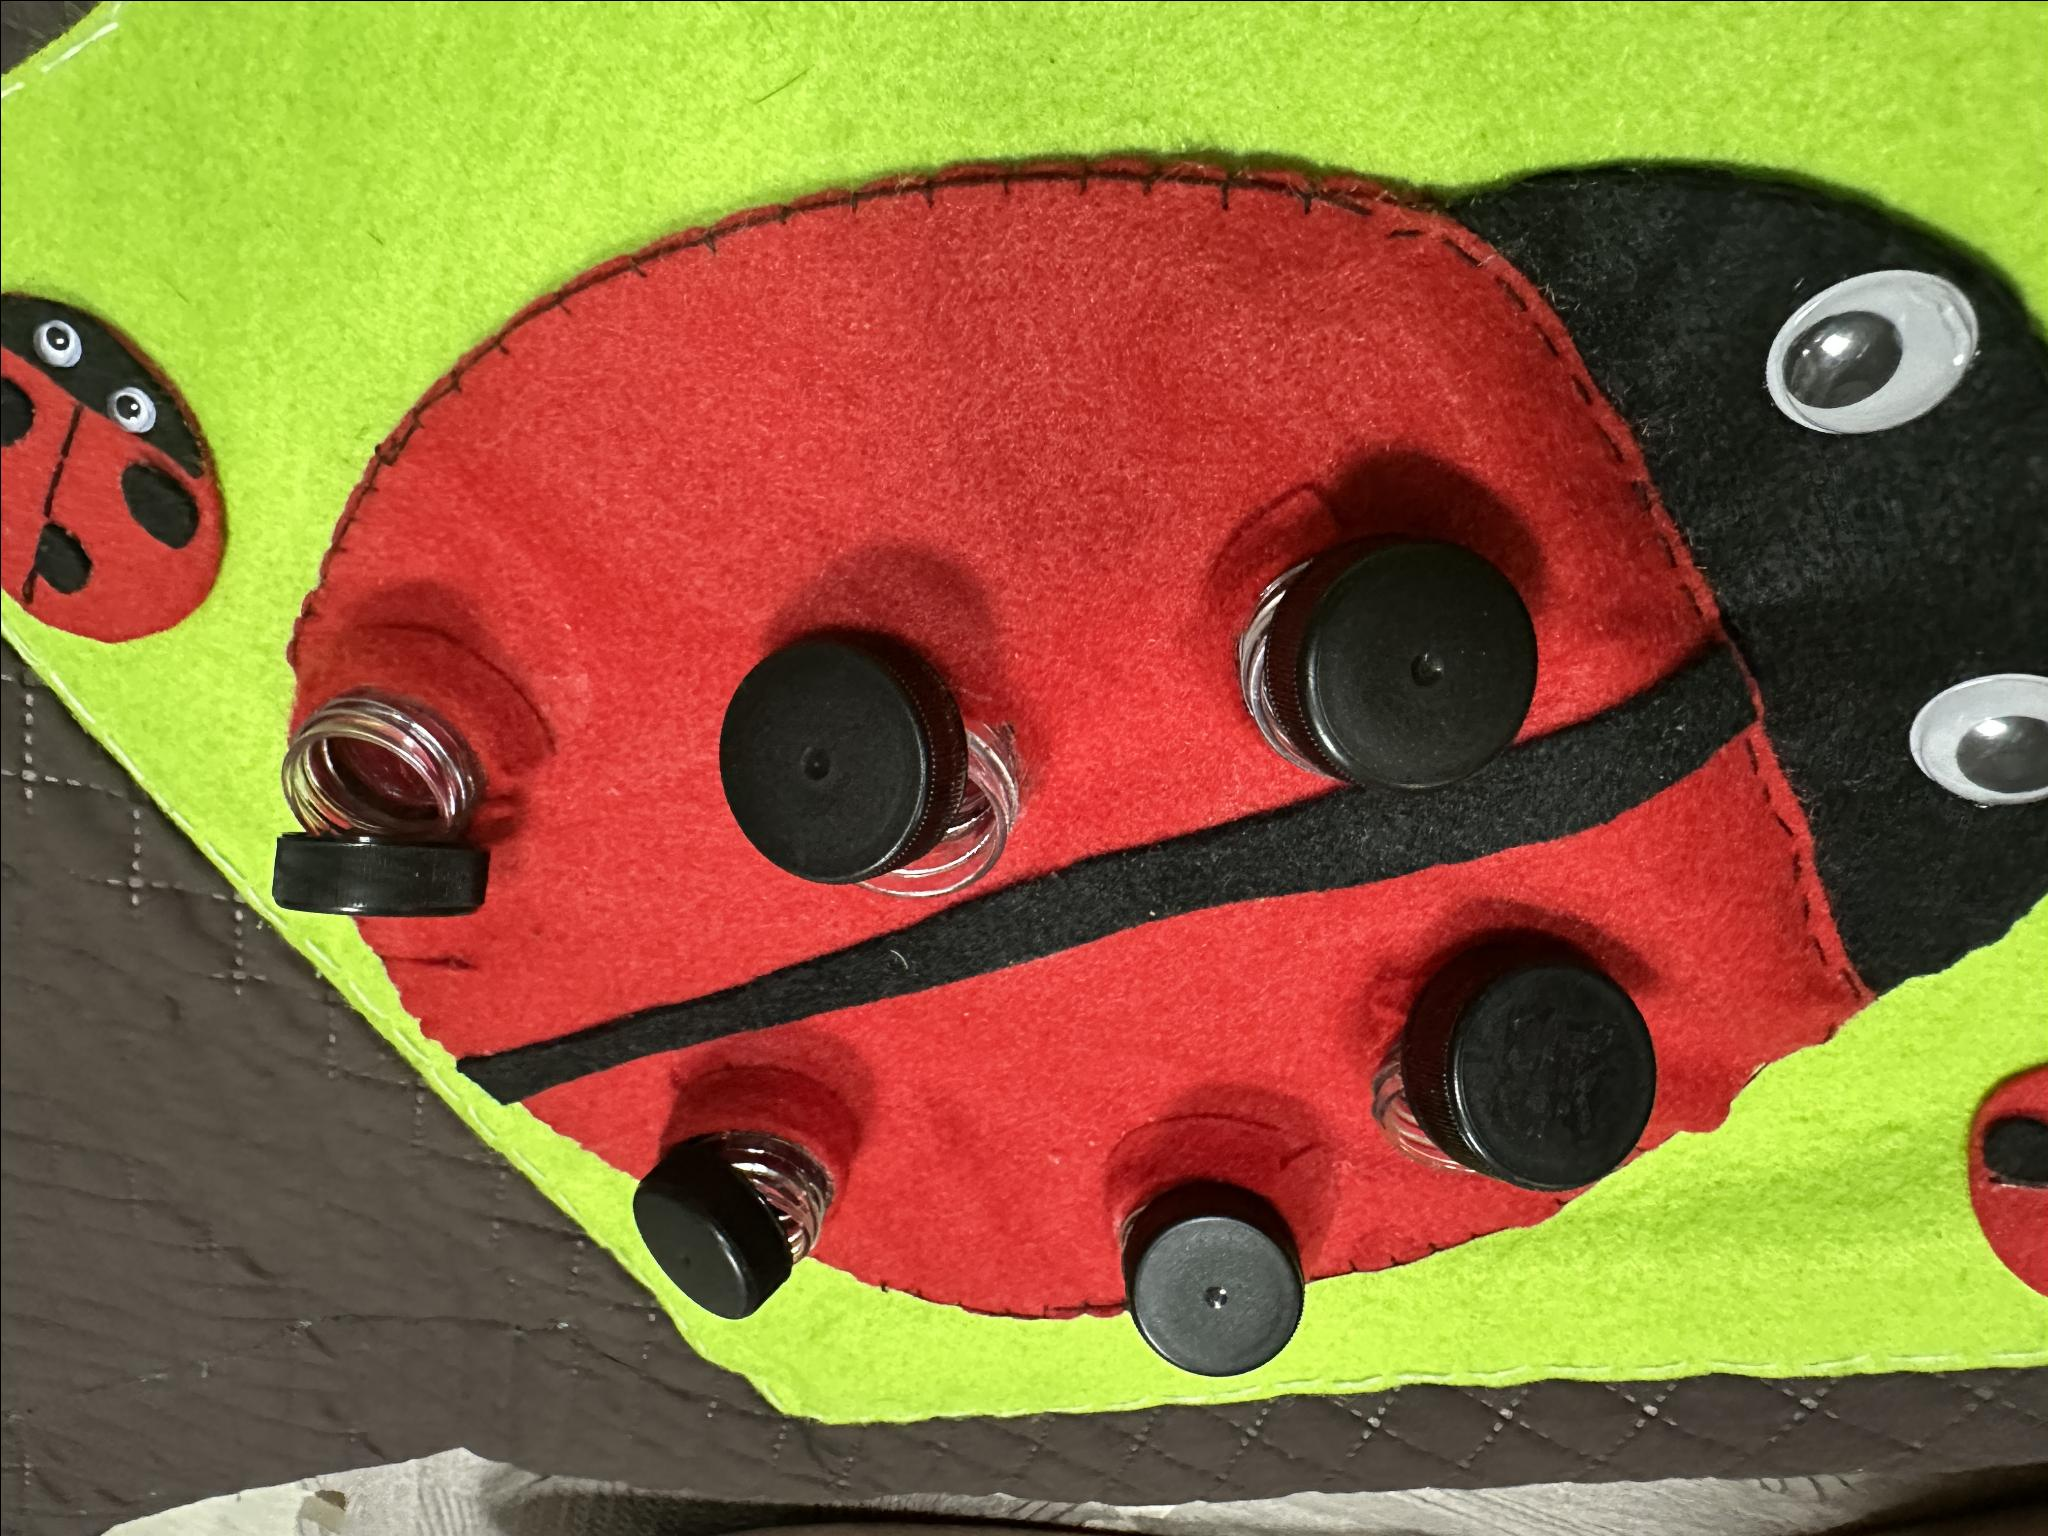cap_ng: (698, 600, 1040, 942), (1206, 502, 1551, 812), (1361, 905, 1661, 1231), (250, 636, 547, 949), (627, 1049, 903, 1325), (1092, 1128, 1316, 1383)
